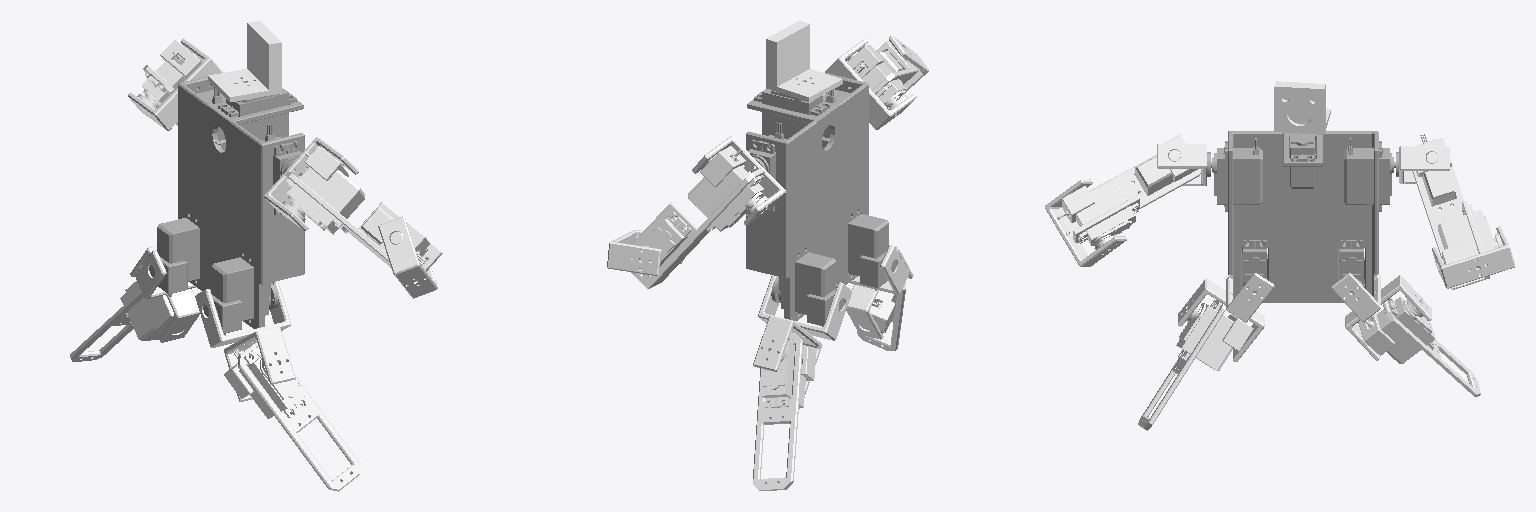
robot.urdf — dummy_robot_head:
<?xml version="1.0" encoding="utf-8"?>
<!-- This URDF was automatically created by SolidWorks to URDF Exporter! Originally created by [author] ([email redacted]) 
     Commit Version: 1.6.1-11-gaed57c3-dirty  Build Version: 1.6.9385.29558
     For more information, please see http://wiki.ros.org/sw_urdf_exporter -->
<robot
  name="dummy_robot_head">
  <link
    name="base_link">
    <inertial>
      <origin
        xyz="0.0053044 -5.785E-05 0.0039955"
        rpy="0 0 0" />
      <mass
        value="0.2602" />
      <inertia
        ixx="0.00032601"
        ixy="-3.848E-08"
        ixz="-7.6929E-06"
        iyy="0.00019551"
        iyz="-1.6221E-07"
        izz="0.00018087" />
    </inertial>
    <visual>
      <origin
        xyz="0 0 0"
        rpy="0 0 0" />
      <geometry>
        <mesh
          filename="package://dummy_robot_head/meshes/base_link.STL" />
      </geometry>
      <material
        name="">
        <color
          rgba="0.75294 0.75294 0.75294 1" />
      </material>
    </visual>
    <collision>
      <origin
        xyz="0 0 0"
        rpy="0 0 0" />
      <geometry>
        <mesh
          filename="package://dummy_robot_head/meshes/base_link.STL" />
      </geometry>
    </collision>
  </link>
  <link
    name="left_shoulder">
    <inertial>
      <origin
        xyz="-0.000494977669290797 0.0139773890538528 -0.000366847947007587"
        rpy="0 0 0" />
      <mass
        value="0.00970656797987935" />
      <inertia
        ixx="3.52586283227132E-06"
        ixy="6.49698493982785E-08"
        ixz="-2.28261869689644E-06"
        iyy="5.41452809820979E-06"
        iyz="4.81517800648274E-08"
        izz="4.91399543457323E-06" />
    </inertial>
    <visual>
      <origin
        xyz="0 0 0"
        rpy="0 0 0" />
      <geometry>
        <mesh
          filename="package://dummy_robot_head/meshes/left_shoulder.STL" />
      </geometry>
      <material
        name="">
        <color
          rgba="1 1 1 1" />
      </material>
    </visual>
    <collision>
      <origin
        xyz="0 0 0"
        rpy="0 0 0" />
      <geometry>
        <mesh
          filename="package://dummy_robot_head/meshes/left_shoulder.STL" />
      </geometry>
    </collision>
  </link>
  <joint
    name="left_shoulder_joint"
    type="revolute">
    <origin
      xyz="0.016 0.0749 0.049968"
      rpy="0 0 0" />
    <parent
      link="base_link" />
    <child
      link="left_shoulder" />
    <axis
      xyz="0 -1 0" />
    <limit
      lower="0"
      upper="0"
      effort="0"
      velocity="0" />
  </joint>
  <link
    name="left_arm">
    <inertial>
      <origin
        xyz="0.0500663852648216 0.0176178868920581 -0.0173452759347469"
        rpy="0 0 0" />
      <mass
        value="0.100370249044869" />
      <inertia
        ixx="3.08959227956825E-05"
        ixy="-3.5142416816462E-06"
        ixz="8.23976905097358E-06"
        iyy="3.16911027704537E-05"
        iyz="3.05241568817197E-06"
        izz="2.85236007152231E-05" />
    </inertial>
    <visual>
      <origin
        xyz="0 0 0"
        rpy="0 0 0" />
      <geometry>
        <mesh
          filename="package://dummy_robot_head/meshes/left_arm.STL" />
      </geometry>
      <material
        name="">
        <color
          rgba="1 1 1 1" />
      </material>
    </visual>
    <collision>
      <origin
        xyz="0 0 0"
        rpy="0 0 0" />
      <geometry>
        <mesh
          filename="package://dummy_robot_head/meshes/left_arm.STL" />
      </geometry>
    </collision>
  </link>
  <joint
    name="left_arm_joint"
    type="revolute">
    <origin
      xyz="-0.020085 0.0275 -0.014886"
      rpy="0 0 0" />
    <parent
      link="left_shoulder" />
    <child
      link="left_arm" />
    <axis
      xyz="0.8034 0 0.59543" />
    <limit
      lower="0"
      upper="0"
      effort="0"
      velocity="0" />
  </joint>
  <link
    name="right_shoulder">
    <inertial>
      <origin
        xyz="-0.000471493609443097 -0.0139773890538527 -0.000396577969099032"
        rpy="0 0 0" />
      <mass
        value="0.00970656797987935" />
      <inertia
        ixx="3.81117730484313E-06"
        ixy="-6.18873753263401E-08"
        ixz="-2.35053144808739E-06"
        iyy="5.41452809820978E-06"
        iyz="-5.20540875384895E-08"
        izz="4.62868096200142E-06" />
    </inertial>
    <visual>
      <origin
        xyz="0 0 0"
        rpy="0 0 0" />
      <geometry>
        <mesh
          filename="package://dummy_robot_head/meshes/right_shoulder.STL" />
      </geometry>
      <material
        name="">
        <color
          rgba="1 1 1 1" />
      </material>
    </visual>
    <collision>
      <origin
        xyz="0 0 0"
        rpy="0 0 0" />
      <geometry>
        <mesh
          filename="package://dummy_robot_head/meshes/right_shoulder.STL" />
      </geometry>
    </collision>
  </link>
  <joint
    name="right_shoulder_joint"
    type="revolute">
    <origin
      xyz="0.016 -0.0749 0.049968"
      rpy="0 0 0" />
    <parent
      link="base_link" />
    <child
      link="right_shoulder" />
    <axis
      xyz="0 1 0" />
    <limit
      lower="0"
      upper="0"
      effort="0"
      velocity="0" />
  </joint>
  <link
    name="right_arm">
    <inertial>
      <origin
        xyz="0.0386268802577314 -0.0394332744746437 -0.00211040751772204"
        rpy="0 0 0" />
      <mass
        value="0.100370249186633" />
      <inertia
        ixx="3.3849855264985E-05"
        ixy="4.14919667773168E-06"
        ixz="4.60871378699521E-06"
        iyy="2.34063413906099E-05"
        iyz="-4.8880736896276E-06"
        izz="3.38544297007948E-05" />
    </inertial>
    <visual>
      <origin
        xyz="0 0 0"
        rpy="0 0 0" />
      <geometry>
        <mesh
          filename="package://dummy_robot_head/meshes/right_arm.STL" />
      </geometry>
      <material
        name="">
        <color
          rgba="1 1 1 1" />
      </material>
    </visual>
    <collision>
      <origin
        xyz="0 0 0"
        rpy="0 0 0" />
      <geometry>
        <mesh
          filename="package://dummy_robot_head/meshes/right_arm.STL" />
      </geometry>
    </collision>
  </link>
  <joint
    name="right_arm_joint"
    type="revolute">
    <origin
      xyz="-0.019132 -0.0275 -0.016092"
      rpy="0 0 0" />
    <parent
      link="right_shoulder" />
    <child
      link="right_arm" />
    <axis
      xyz="0.76529 0 0.64369" />
    <limit
      lower="0"
      upper="0"
      effort="0"
      velocity="0" />
  </joint>
  <link
    name="left_leg">
    <inertial>
      <origin
        xyz="-0.0259520293623099 0.0336376733069287 -0.0409183648472683"
        rpy="0 0 0" />
      <mass
        value="0.0648169255282869" />
      <inertia
        ixx="2.55499543442854E-05"
        ixy="2.03959696844264E-06"
        ixz="-2.46663118785908E-06"
        iyy="2.21598883657296E-05"
        iyz="3.42148461544684E-06"
        izz="2.09882762545361E-05" />
    </inertial>
    <visual>
      <origin
        xyz="0 0 0"
        rpy="0 0 0" />
      <geometry>
        <mesh
          filename="package://dummy_robot_head/meshes/left_leg.STL" />
      </geometry>
      <material
        name="">
        <color
          rgba="1 1 1 1" />
      </material>
    </visual>
    <collision>
      <origin
        xyz="0 0 0"
        rpy="0 0 0" />
      <geometry>
        <mesh
          filename="package://dummy_robot_head/meshes/left_leg.STL" />
      </geometry>
    </collision>
  </link>
  <joint
    name="left_leg_joint"
    type="revolute">
    <origin
      xyz="0.0149 0.0385 -0.060532"
      rpy="0 0 0" />
    <parent
      link="base_link" />
    <child
      link="left_leg" />
    <axis
      xyz="-1 0 0" />
    <limit
      lower="0"
      upper="0"
      effort="0"
      velocity="0" />
  </joint>
  <link
    name="right_leg">
    <inertial>
      <origin
        xyz="-0.0199948274010881 -0.0302492500877792 -0.0431164682909048"
        rpy="0 0 0" />
      <mass
        value="0.0648169253370654" />
      <inertia
        ixx="2.48238419776463E-05"
        ixy="2.28356711503589E-06"
        ixz="3.2382027706721E-06"
        iyy="2.29170488597893E-05"
        iyz="-2.94973352747799E-06"
        izz="2.09572280192438E-05" />
    </inertial>
    <visual>
      <origin
        xyz="0 0 0"
        rpy="0 0 0" />
      <geometry>
        <mesh
          filename="package://dummy_robot_head/meshes/right_leg.STL" />
      </geometry>
      <material
        name="">
        <color
          rgba="1 1 1 1" />
      </material>
    </visual>
    <collision>
      <origin
        xyz="0 0 0"
        rpy="0 0 0" />
      <geometry>
        <mesh
          filename="package://dummy_robot_head/meshes/right_leg.STL" />
      </geometry>
    </collision>
  </link>
  <joint
    name="right_leg_joint"
    type="revolute">
    <origin
      xyz="0.0149 -0.0385 -0.060532"
      rpy="0 0 0" />
    <parent
      link="base_link" />
    <child
      link="right_leg" />
    <axis
      xyz="-1 0 0" />
    <limit
      lower="0"
      upper="0"
      effort="0"
      velocity="0" />
  </joint>
  <link
    name="head">
    <inertial>
      <origin
        xyz="0.010032466927476 -0.00133262295692921 0.0158925814081951"
        rpy="0 0 0" />
      <mass
        value="0.020219295801448" />
      <inertia
        ixx="6.0871503288167E-06"
        ixy="-1.09650603321806E-07"
        ixz="-1.3204350966027E-06"
        iyy="5.2762259871767E-06"
        iyz="1.75394759392237E-07"
        izz="4.72238329098024E-06" />
    </inertial>
    <visual>
      <origin
        xyz="0 0 0"
        rpy="0 0 0" />
      <geometry>
        <mesh
          filename="package://dummy_robot_head/meshes/head.STL" />
      </geometry>
      <material
        name="">
        <color
          rgba="1 1 1 1" />
      </material>
    </visual>
    <collision>
      <origin
        xyz="0 0 0"
        rpy="0 0 0" />
      <geometry>
        <mesh
          filename="package://dummy_robot_head/meshes/head.STL" />
      </geometry>
    </collision>
  </link>
  <joint
    name="head_joint"
    type="revolute">
    <origin
      xyz="0.01675 -0.0005 0.087118"
      rpy="0 0 0" />
    <parent
      link="base_link" />
    <child
      link="head" />
    <axis
      xyz="0 0 -1" />
    <limit
      lower="0"
      upper="0"
      effort="0"
      velocity="0" />
  </joint>
</robot>

--- Facts derived from the render (not from the file) ---
Views: 3 orthographic renders of the robot side by side, from view 1: azimuth 30°, elevation 25°; view 2: azimuth 150°, elevation 25°; view 3: azimuth 270°, elevation 25°.
Robot: dummy_robot_head — 8 links, 7 joints (7 revolute); root link base_link; default pose: all joints at 0.
Links seen in each view (by area): view 1: base_link, right_leg, right_arm, left_leg, head, left_arm, left_shoulder, right_shoulder; view 2: base_link, left_arm, left_leg, right_leg, head, right_arm, left_shoulder, right_shoulder; view 3: base_link, right_arm, left_arm, right_leg, left_leg, head, left_shoulder, right_shoulder.
Boxes of the visible links, bbox=[...] form: base_link: bbox=[149, 73, 304, 335]; right_leg: bbox=[195, 281, 360, 491]; right_arm: bbox=[282, 146, 442, 298]; left_leg: bbox=[70, 246, 199, 361]; head: bbox=[208, 21, 281, 101]; left_arm: bbox=[137, 39, 201, 125]; left_shoulder: bbox=[128, 38, 223, 130]; right_shoulder: bbox=[264, 137, 358, 230]; base_link: bbox=[746, 73, 896, 326]; left_arm: bbox=[607, 146, 767, 288]; left_leg: bbox=[753, 275, 852, 490]; right_leg: bbox=[846, 245, 913, 350]; head: bbox=[766, 20, 842, 101]; right_arm: bbox=[847, 36, 928, 109]; left_shoulder: bbox=[692, 136, 785, 225]; right_shoulder: bbox=[825, 39, 916, 129]; base_link: bbox=[1207, 131, 1398, 302]; right_arm: bbox=[1045, 134, 1201, 266]; left_arm: bbox=[1412, 134, 1514, 289]; right_leg: bbox=[1138, 251, 1274, 430]; left_leg: bbox=[1332, 273, 1480, 396]; head: bbox=[1274, 81, 1330, 134]; left_shoulder: bbox=[1399, 146, 1449, 183]; right_shoulder: bbox=[1157, 144, 1206, 185].
Bounding box of the posed robot: 0.1475 × 0.3746 × 0.3062 m (x, y, z).
8 mesh visuals loaded from 8 distinct referenced files (8 binary STL).